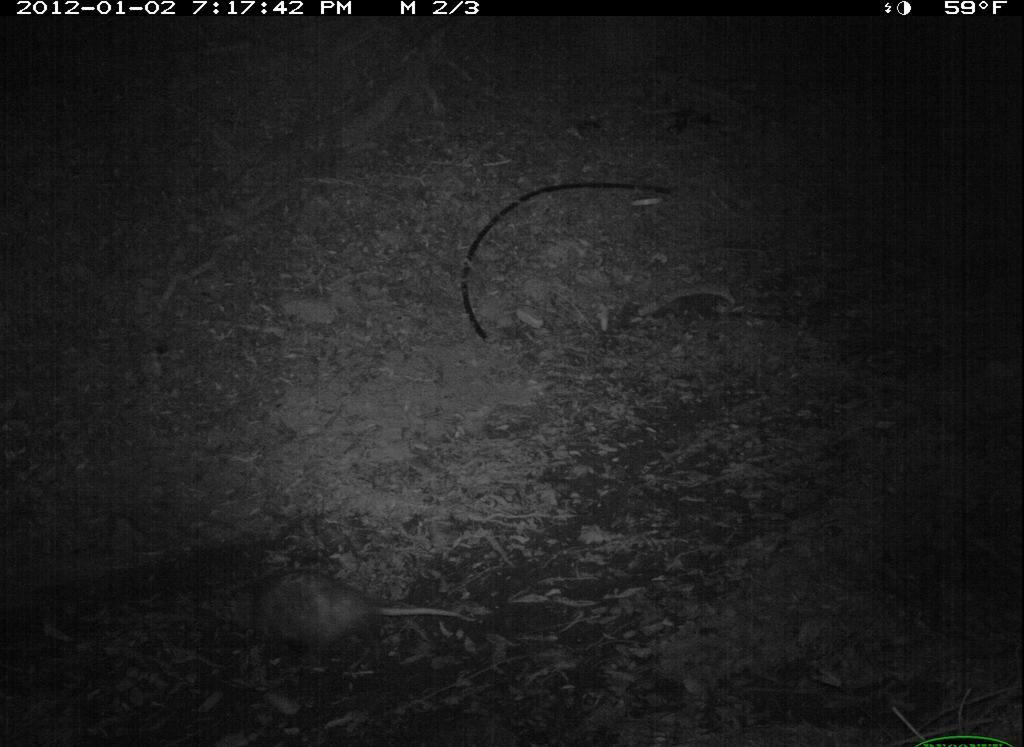opossum: (212, 541, 460, 696)
